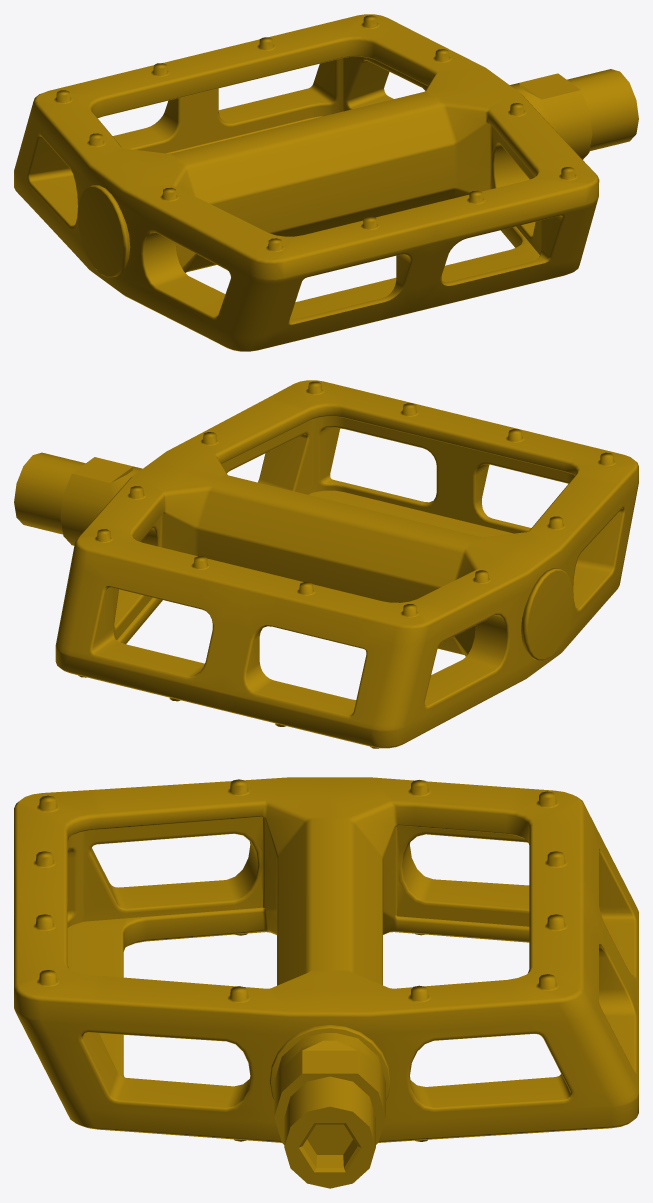
File: BMX_Pedal_Destruction_Kaboom.fbx
The picture shows the model from 3 angles, top to bottom: view 1: azimuth 30°, elevation 25°; view 2: azimuth 150°, elevation 25°; view 3: azimuth 270°, elevation 25°; orthographic projection. The views are drawn at different scales.
Parts seen in each view (by area): view 1: BMX_Pedal_Destruction_Kaboom1, Axle; view 2: BMX_Pedal_Destruction_Kaboom1, Axle; view 3: BMX_Pedal_Destruction_Kaboom1, Axle.
Boxes of the visible parts, left/top/right/bottom form: BMX_Pedal_Destruction_Kaboom1: left=14, top=14, right=599, bottom=351; Axle: left=510, top=69, right=638, bottom=159; BMX_Pedal_Destruction_Kaboom1: left=55, top=380, right=638, bottom=748; Axle: left=14, top=452, right=142, bottom=545; BMX_Pedal_Destruction_Kaboom1: left=14, top=777, right=638, bottom=1142; Axle: left=274, top=1033, right=385, bottom=1188.
Bounding box in the file's own units: 11.41 × 2.56 × 9.75.
